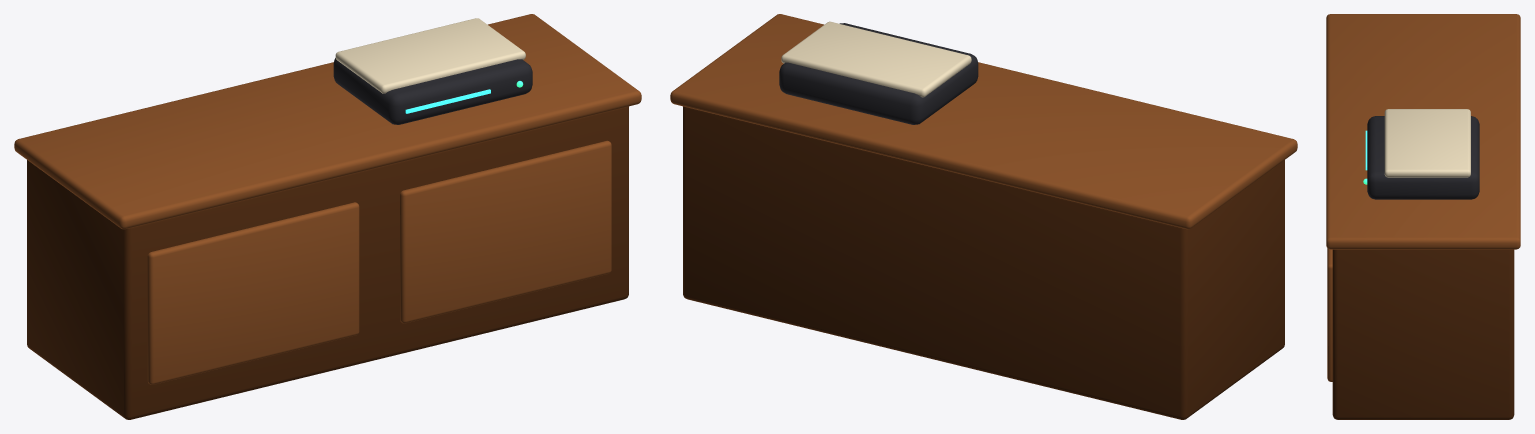
File: tv_stand.glb
3 renders of one model, left to right at view 1: azimuth 30°, elevation 25°; view 2: azimuth 150°, elevation 25°; view 3: azimuth 270°, elevation 25°, orthographic. The views are drawn at different scales.
Parts seen in each view (by area): view 1: tv_stand; view 2: tv_stand; view 3: tv_stand.
Boxes of the visible parts, left/top/right/bottom form: tv_stand: left=14, top=14, right=641, bottom=419; tv_stand: left=670, top=14, right=1297, bottom=419; tv_stand: left=1326, top=14, right=1520, bottom=419.
Size of the model in its own units: 1.24 by 0.557 by 0.45.
